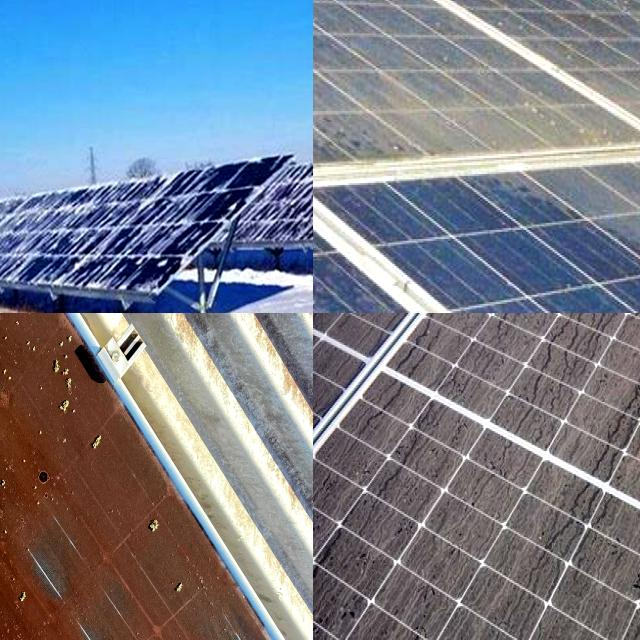dust: (313, 505, 514, 639), (460, 159, 640, 290), (361, 313, 544, 420), (313, 84, 577, 152), (544, 459, 640, 640), (52, 416, 128, 640), (485, 0, 640, 83), (574, 325, 640, 466), (0, 521, 77, 640), (0, 313, 55, 469), (133, 561, 230, 640), (360, 2, 434, 92), (0, 383, 32, 550), (0, 512, 32, 640), (313, 0, 372, 64), (381, 0, 470, 38), (313, 313, 352, 372), (0, 566, 16, 640)
panel: (52, 241, 164, 298), (157, 177, 228, 234), (59, 190, 164, 226), (278, 173, 313, 239), (0, 200, 62, 237), (0, 252, 57, 283), (0, 249, 42, 276), (0, 206, 25, 239)
